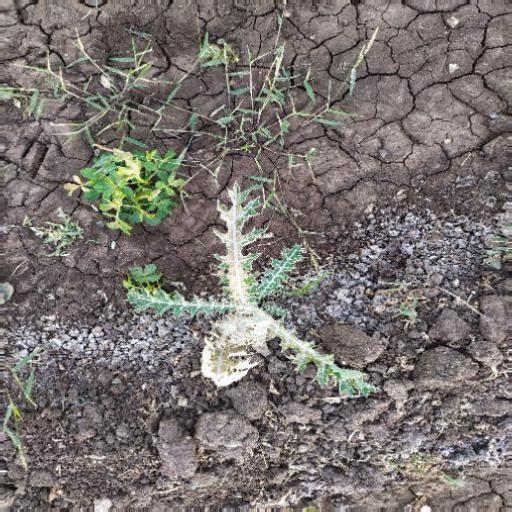weed: (123, 226, 368, 394), (187, 39, 331, 169), (66, 140, 189, 233), (47, 58, 171, 146)
